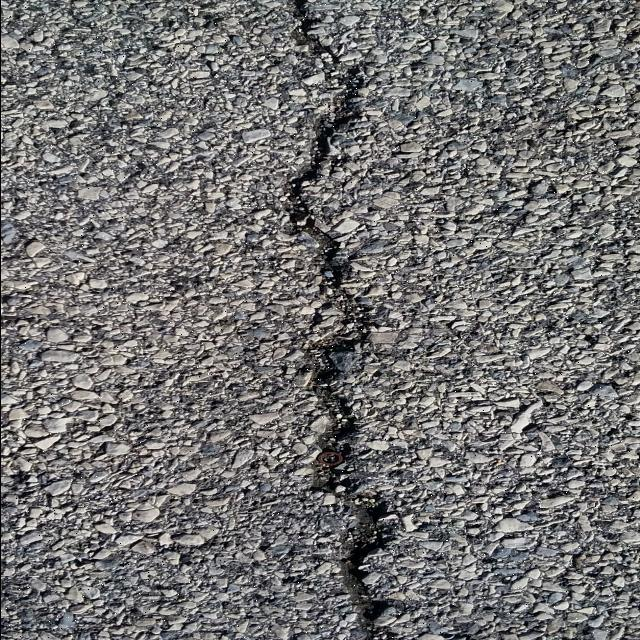Crack: (279, 0, 395, 640)
